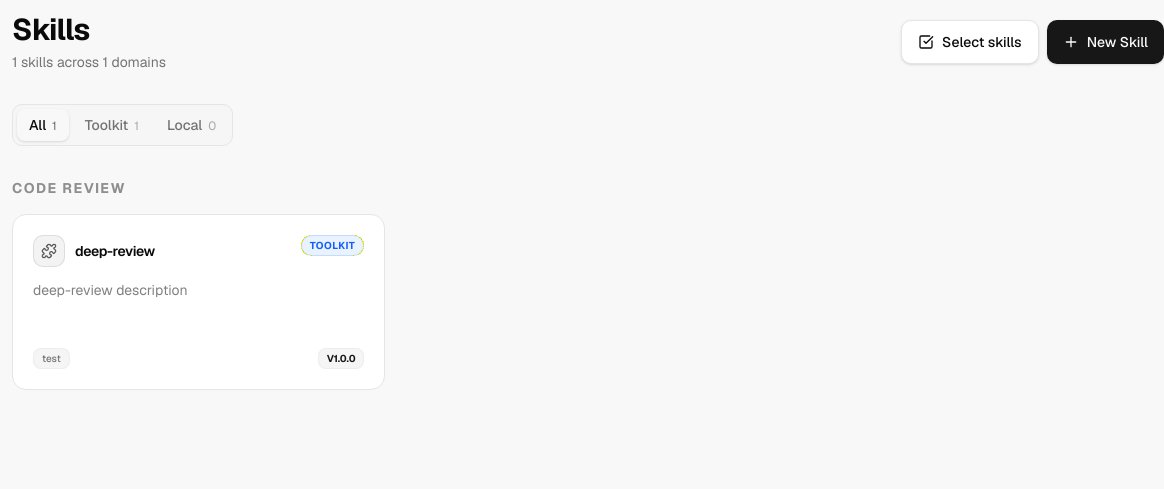
it: SkillsList bulk selection › uses links while browsing and checkboxes while selecting
The image size is (1164, 489).
Step 1. Click the button "Select skills" → click(970, 42), box [901, 20, 1039, 64]
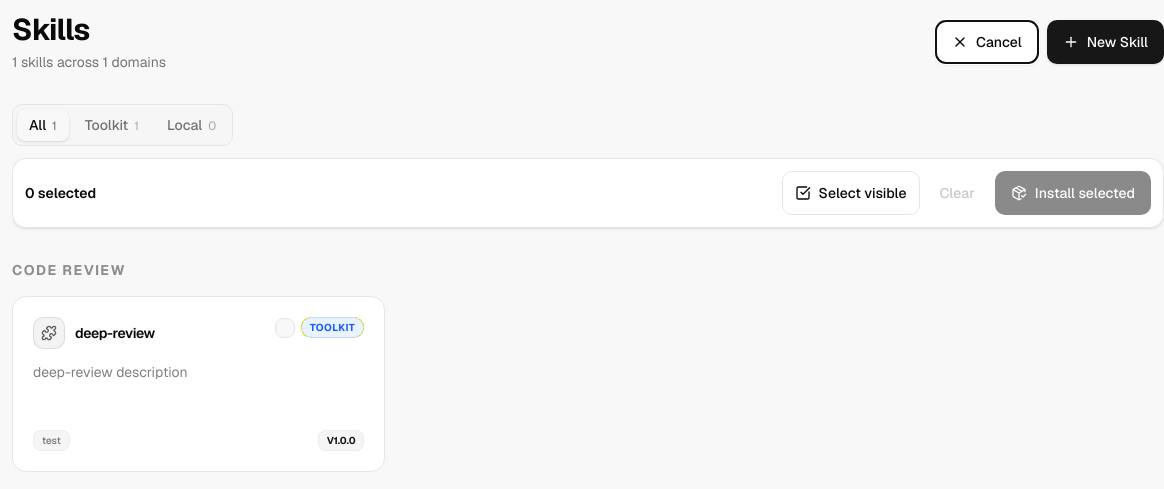
Check: the checkbox named "select deep-review" is shown, box [12, 296, 385, 472]
